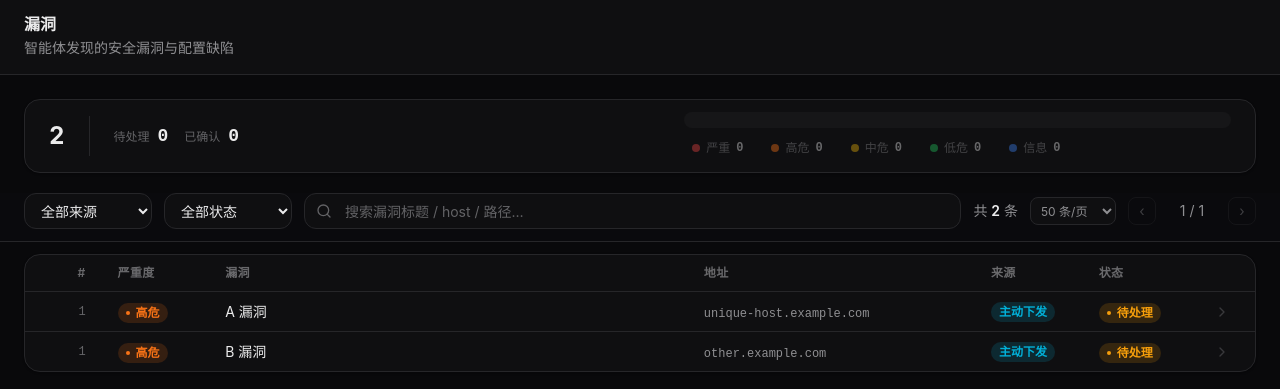
Test: FindingsPage › 搜索框按 host 过滤
Check: the text "A 漏洞" is shown, box [225,302,267,322]
In the field with placeholder "搜索漏洞标题 / host / 路径…": (633, 211) [304,193,961,229], type "unique-host"
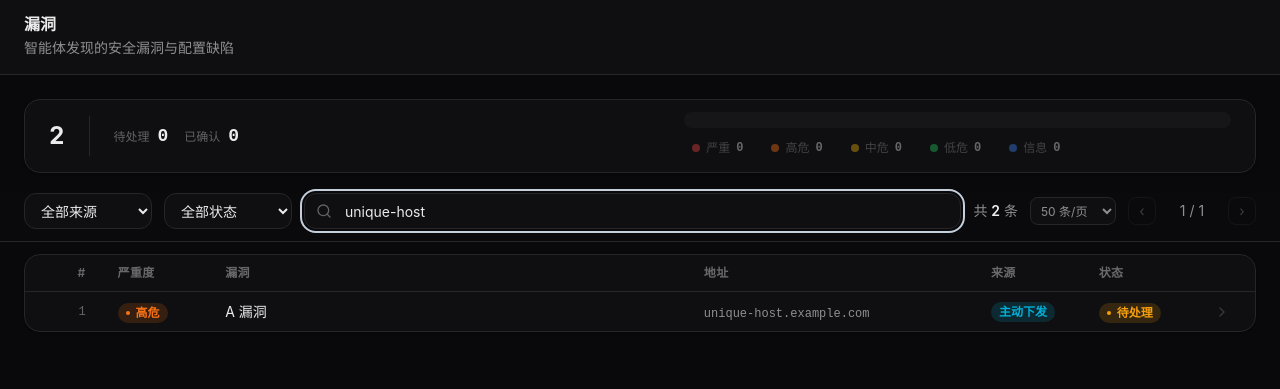
Check: the text "A 漏洞" is shown, box [225,302,267,322]
Check: the button "B 漏洞" is gone
